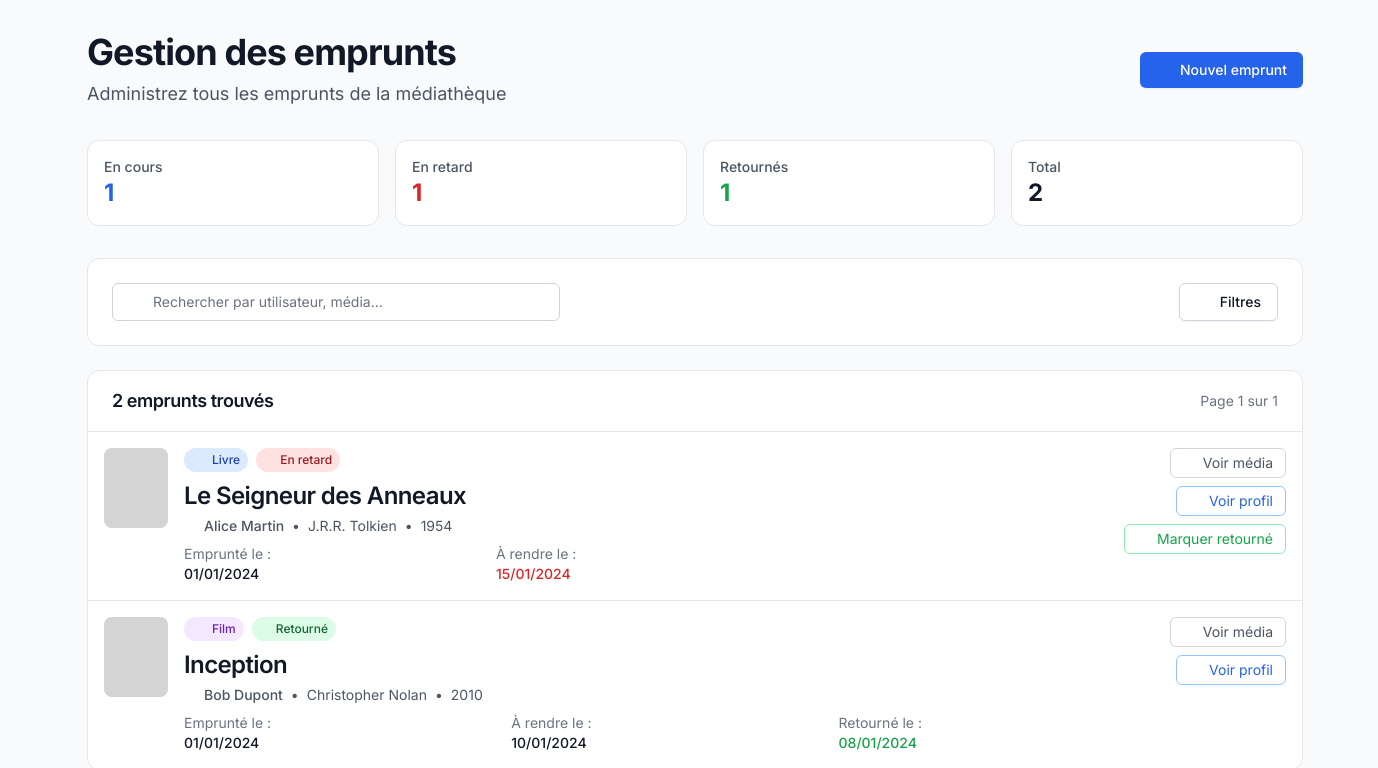
Test: AdminBorrowsPage › Modal de création d'emprunt › permet d'ouvrir la modal de création
Click the button "Nouvel emprunt" at (1221, 70), box [1140,52,1303,88]
(page scrolled)
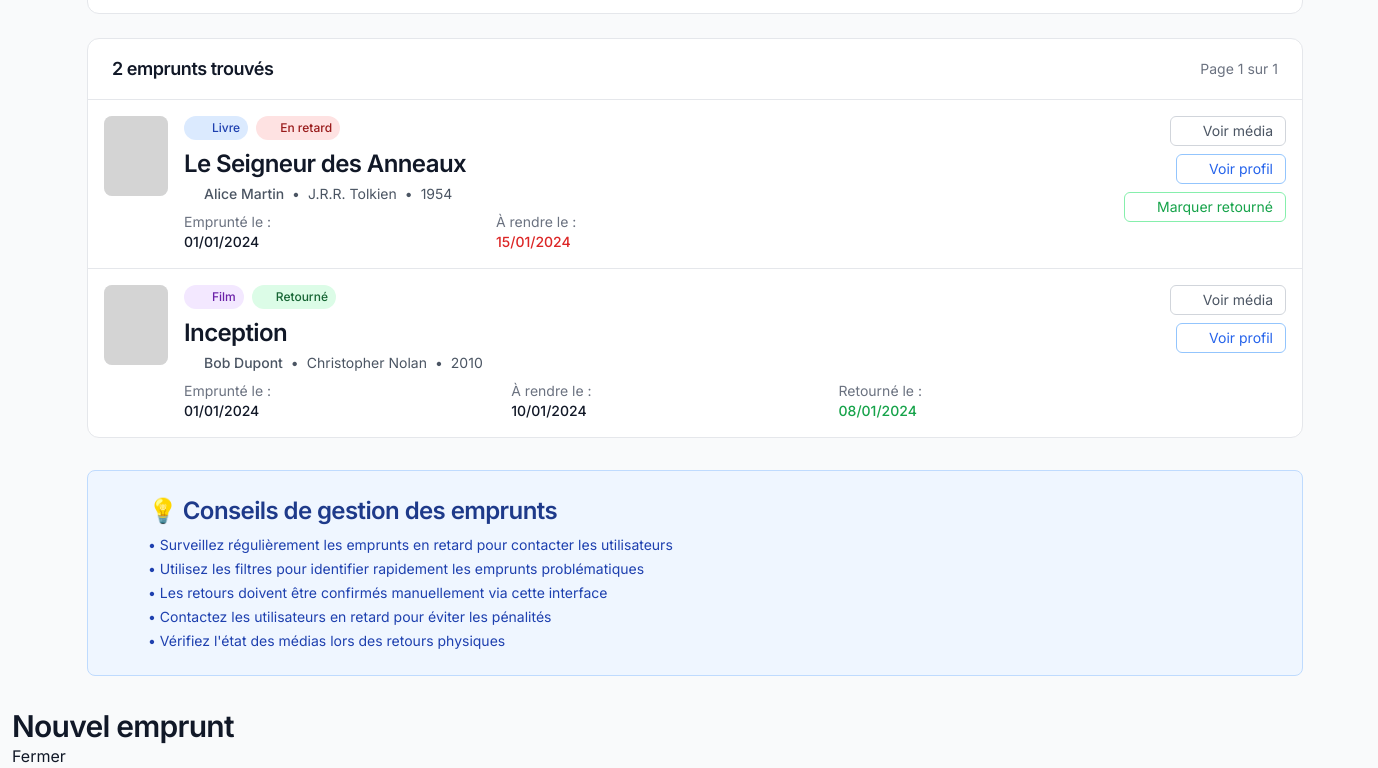
Expected: the element with test id "create-borrow-modal" is shown, [12,708,234,767]
Expected: the element with test id "create-borrow-modal" shows "Nouvel emprunt", [12,708,234,744]
